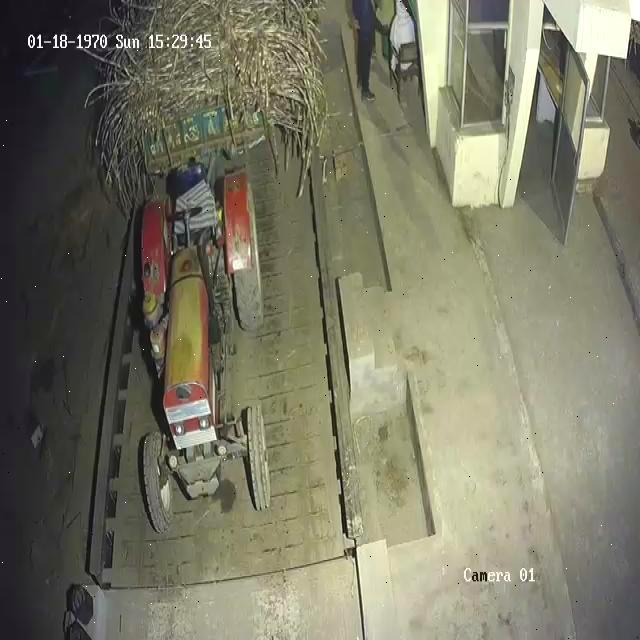Tratores - v5 YOLO V8L 2024-11-13: (132, 170, 285, 536)
